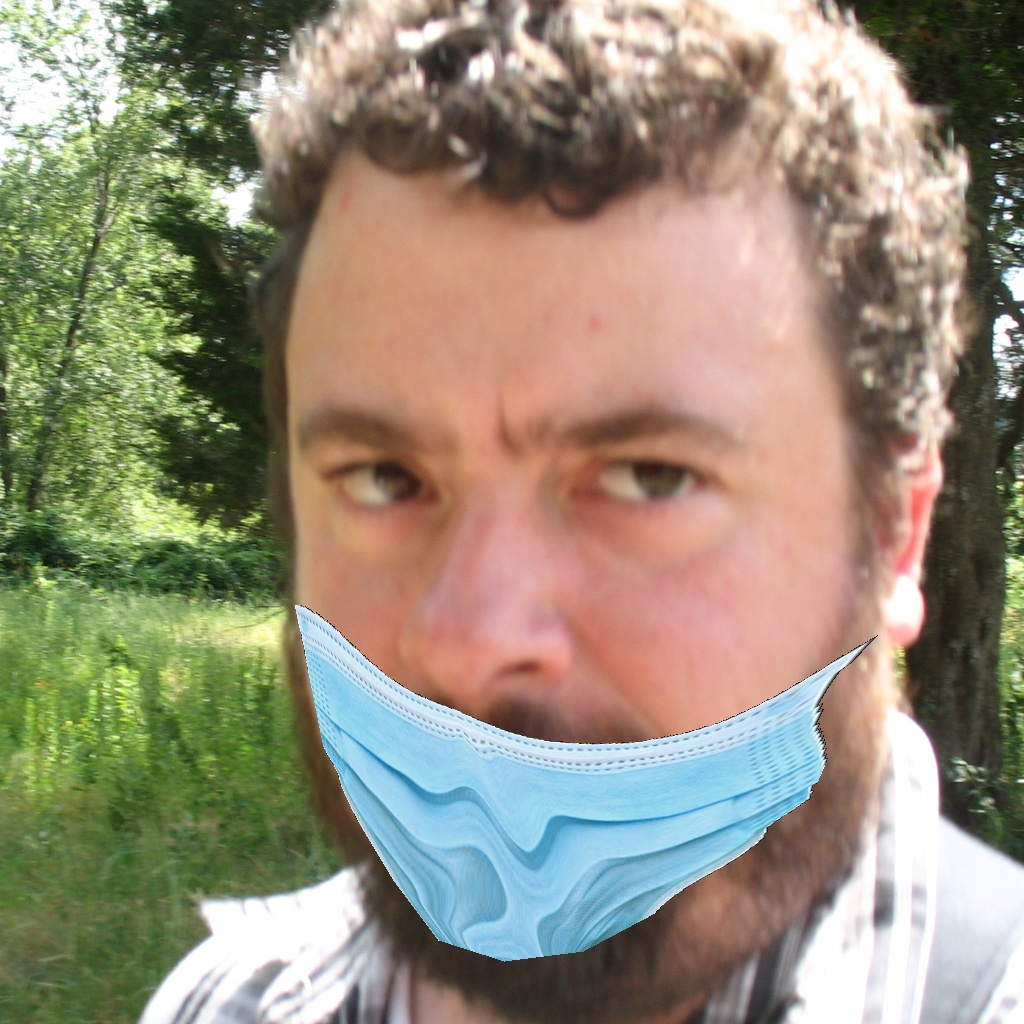Mask_Mouth_Chin: (293, 393, 863, 959)
